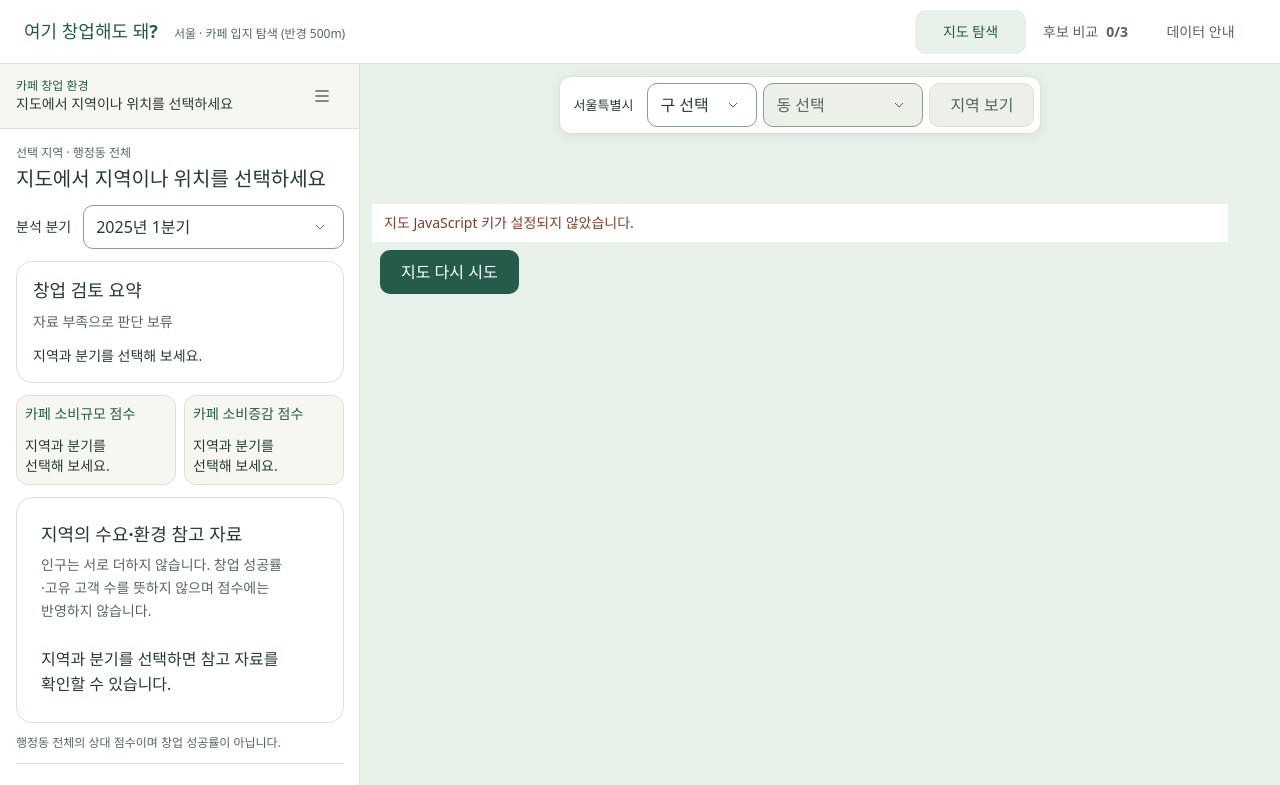
Scenario: 행정동 통계 화면 › metric NULL과 실제 0을 구분하고 행을 NO_ROW로 바꾸지 않는다
Select "종로구" in the dropdown named "자치구" at (702, 105), box left=647, top=83, right=757, bottom=127
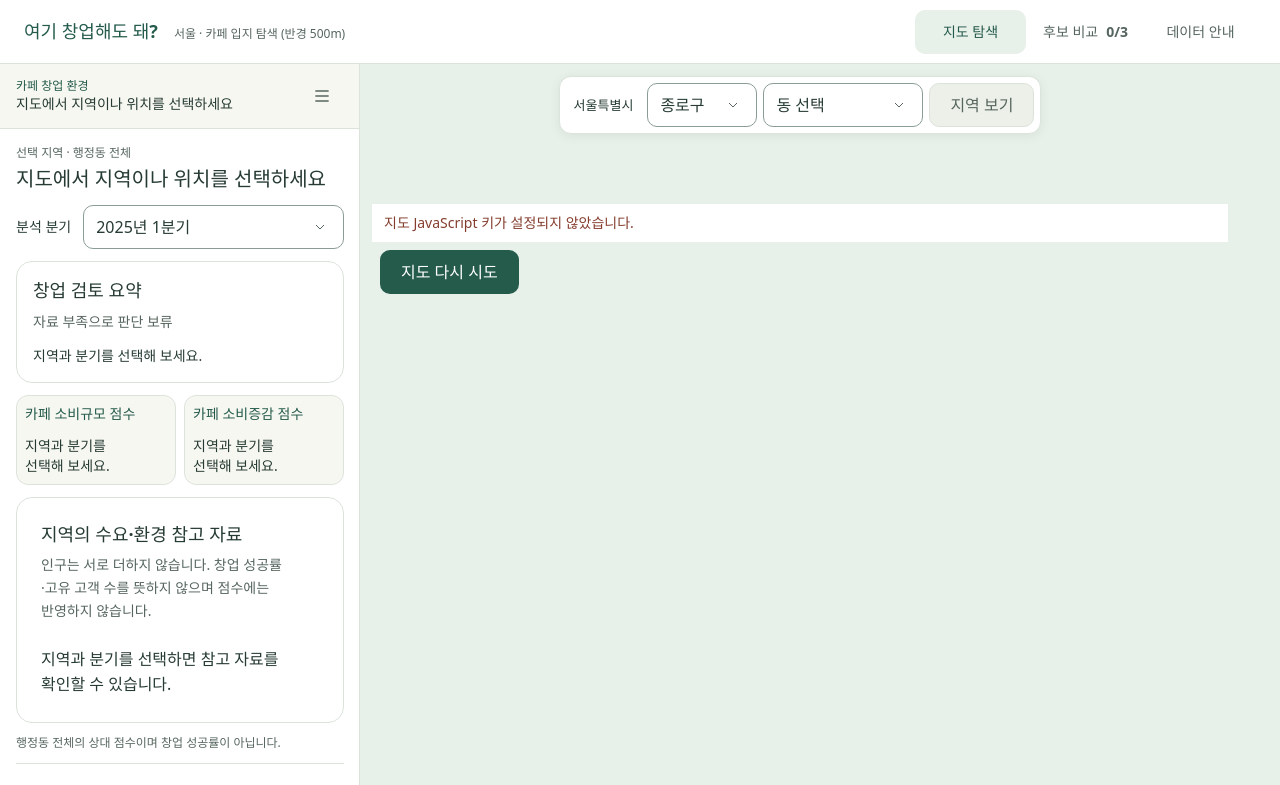
Select "청운효자동" in the dropdown named "행정동" at (843, 105), box left=763, top=83, right=923, bottom=127
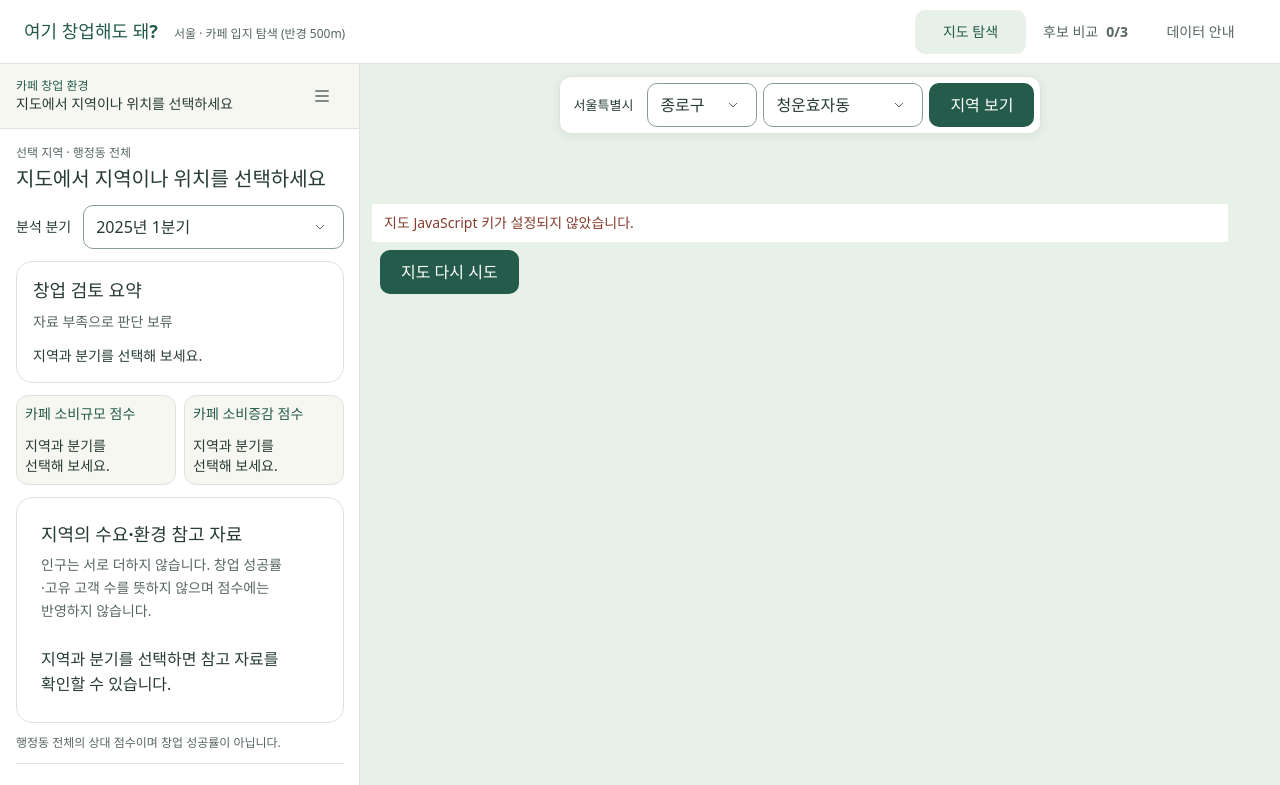
Click the button "지역 보기" at (982, 105), box left=929, top=83, right=1034, bottom=127
(page scrolled)
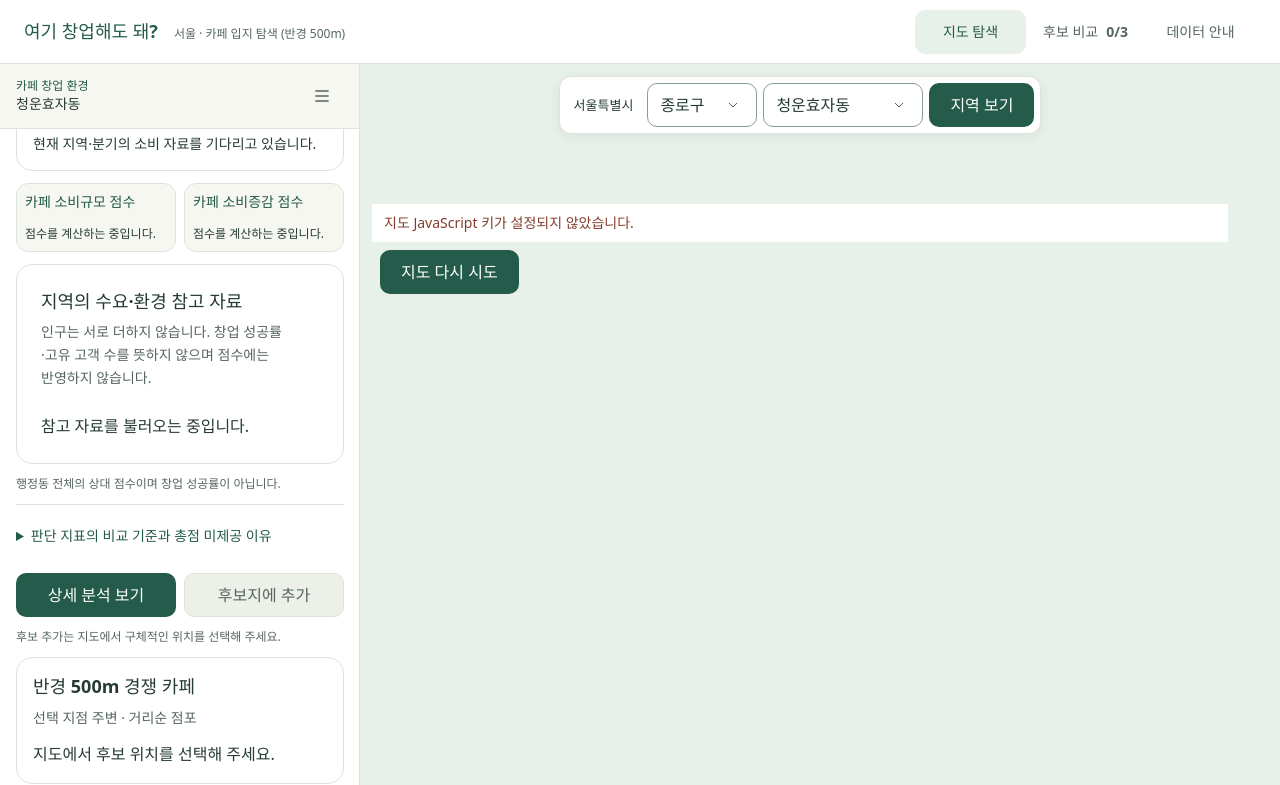
Click the button "상세 분석 보기" at (96, 595), box left=16, top=573, right=176, bottom=617
(page scrolled)
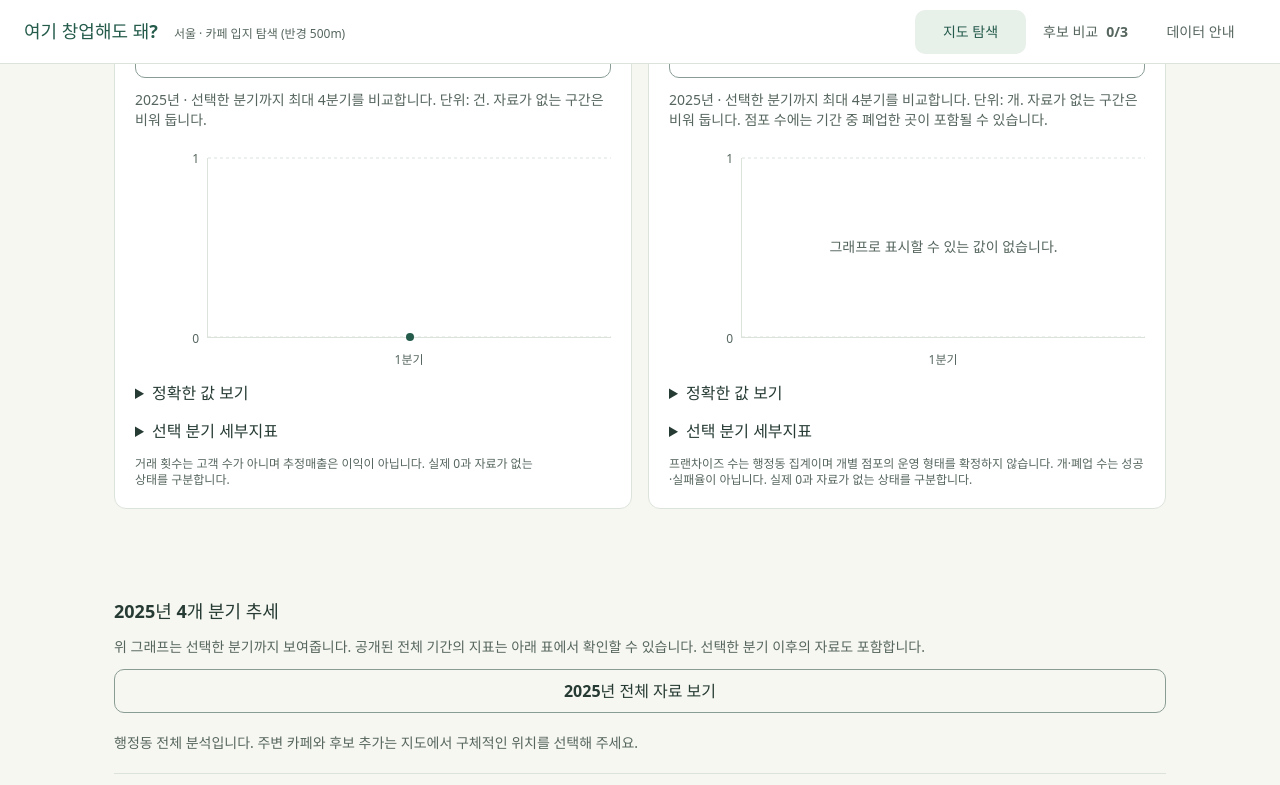
Click the 1st heading "선택 분기 세부지표" at (215, 431), box left=152, top=420, right=278, bottom=442
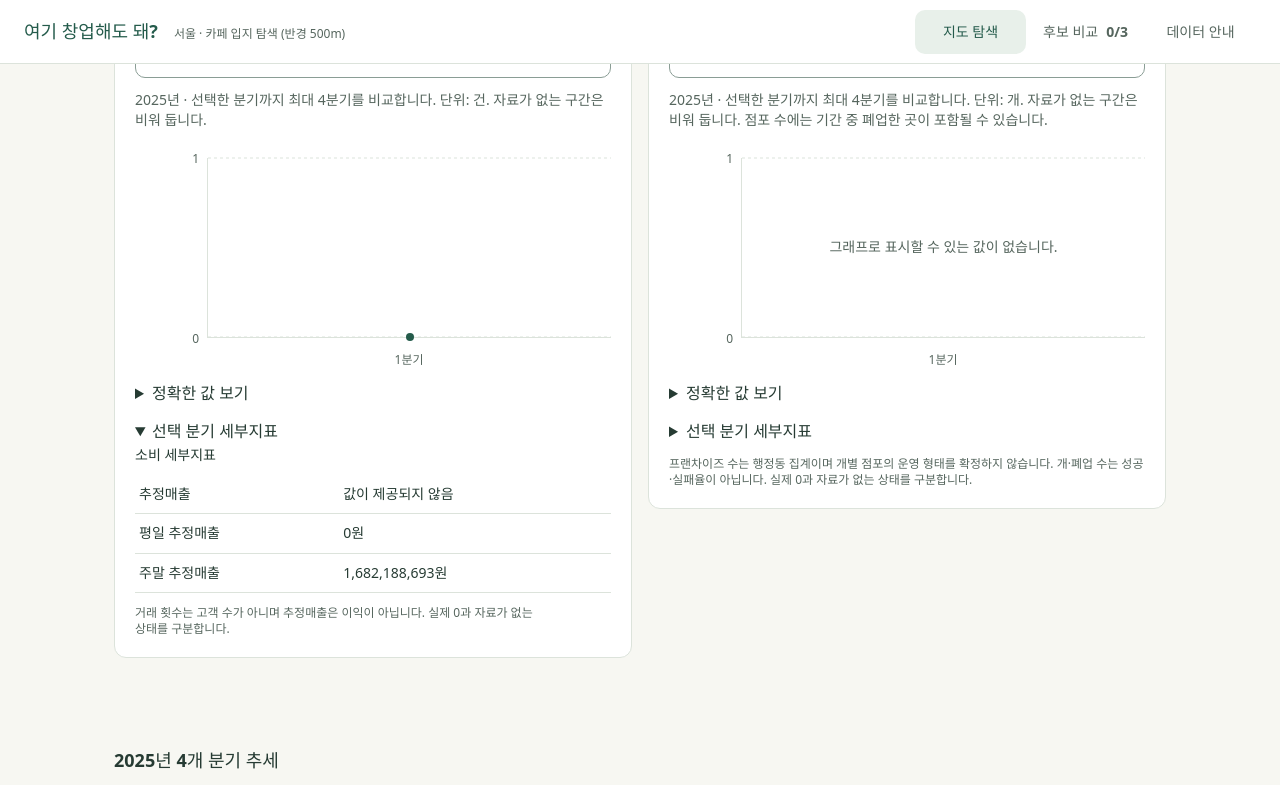
Click the heading "선택 분기 세부지표" below "그래프로 표시할 수 있는 값이 없습니다." at (749, 431), box left=686, top=420, right=812, bottom=442
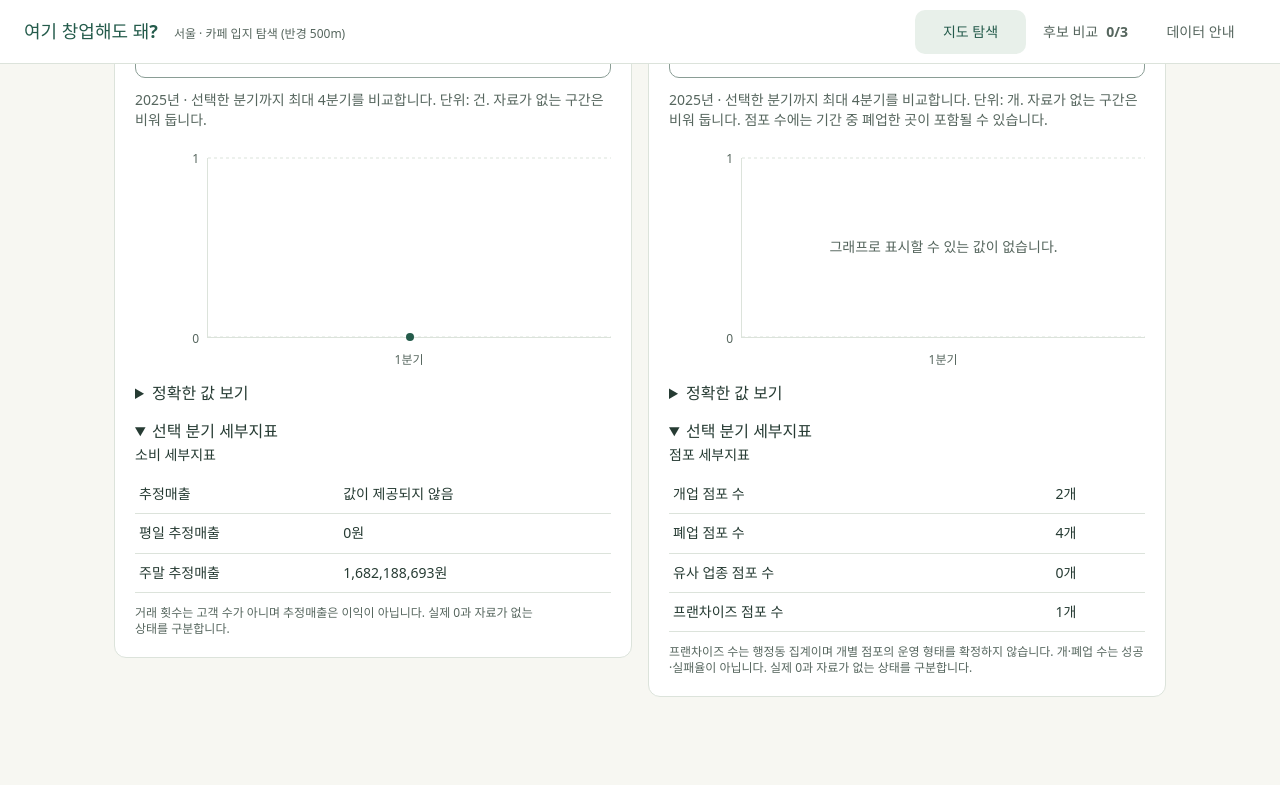
Expected: the text "값이 제공되지 않음" is shown, left=339, top=475, right=611, bottom=514
Expected: the text "0원" is shown, left=339, top=514, right=611, bottom=553
Expected: the text "0개" is shown, left=1052, top=553, right=1145, bottom=592
